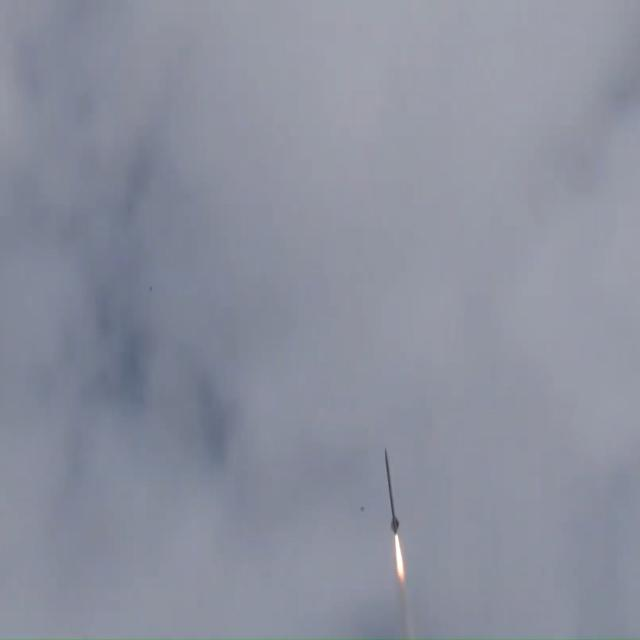Rocket: (383, 446, 401, 534)
